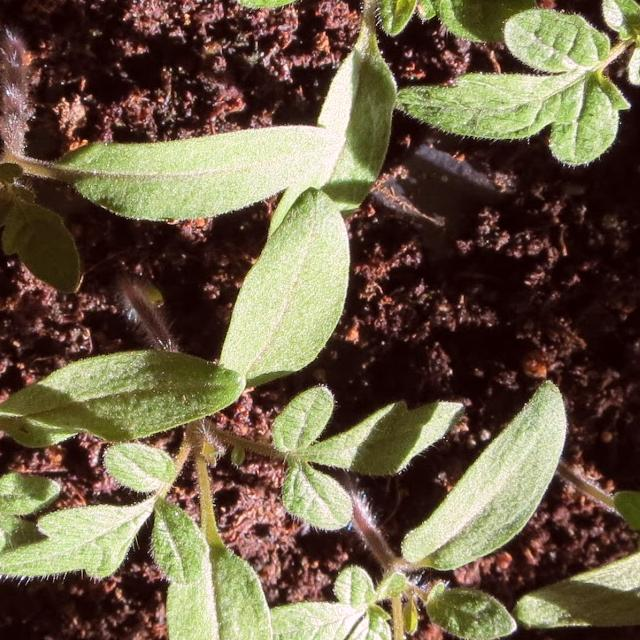Tomato leaf: (381, 366, 574, 607), (393, 1, 640, 176), (202, 187, 356, 407), (60, 114, 349, 226), (500, 482, 640, 631), (158, 514, 276, 640), (321, 628, 451, 640)
